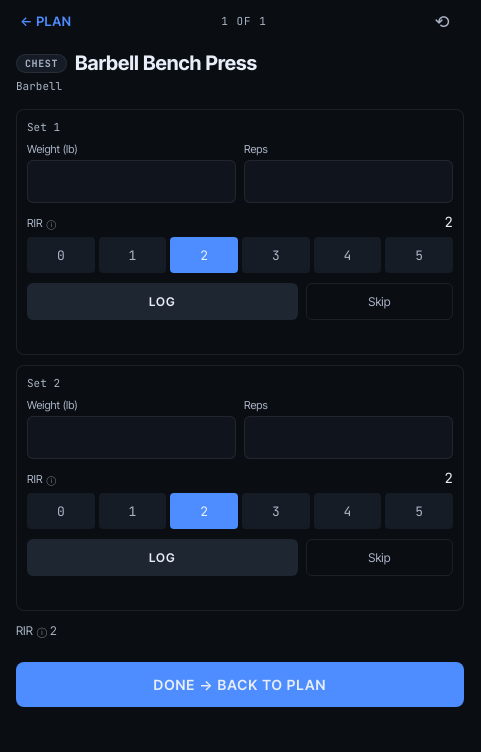
Test case: <TodayLoggerMobile> › focus screen › late-resolving history never clobbers input the user typed while it was in flight
This screenshot has width=481, height=752.
# User types into Set 1 while the history fetch is still pending.
Type "135" into the number field named "Set 1 weight in pounds" at (132, 182), box [27,160,236,203]
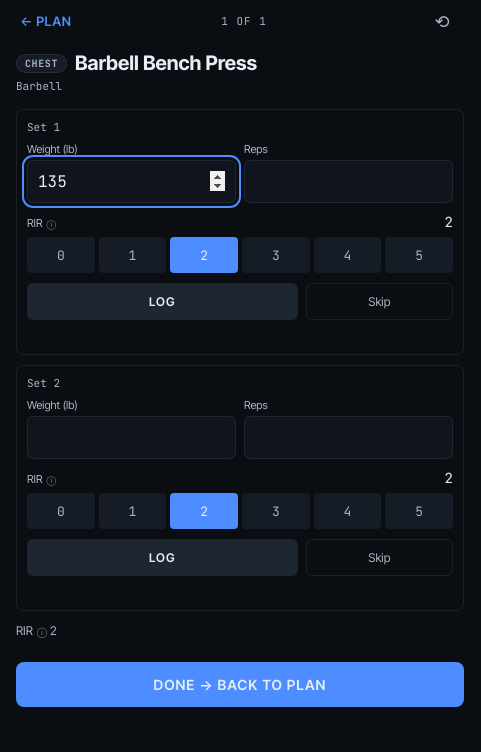
Type "5" into the number field named "Set 1 reps" at (348, 182), box [244,160,453,203]
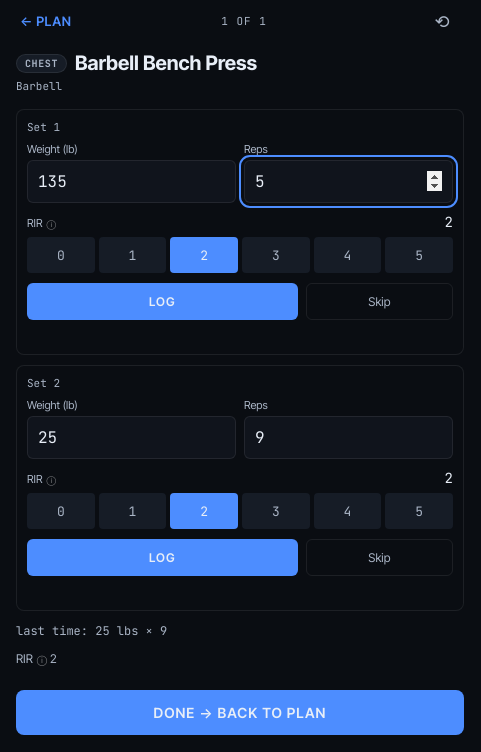
Expected: the number field named "Set 2 weight in pounds" holds "25", [27,416,236,459]
